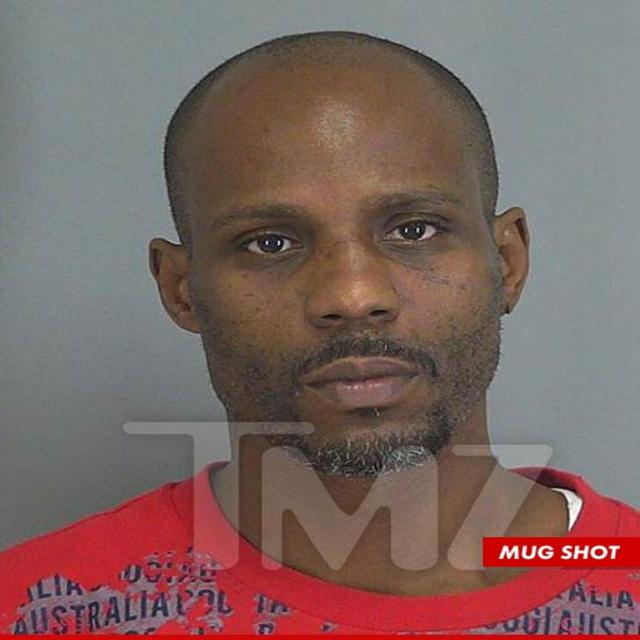nomask: (187, 71, 502, 464)
